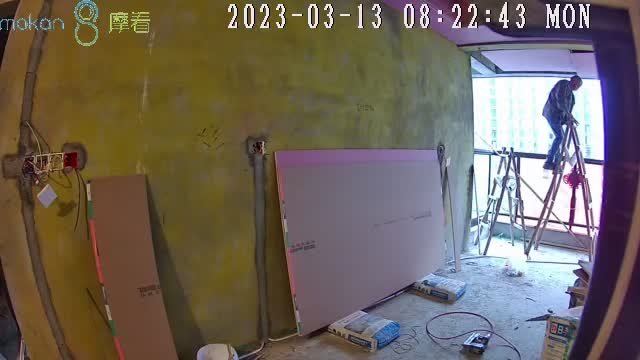people: (543, 75, 582, 171)
window: (473, 74, 604, 230)
